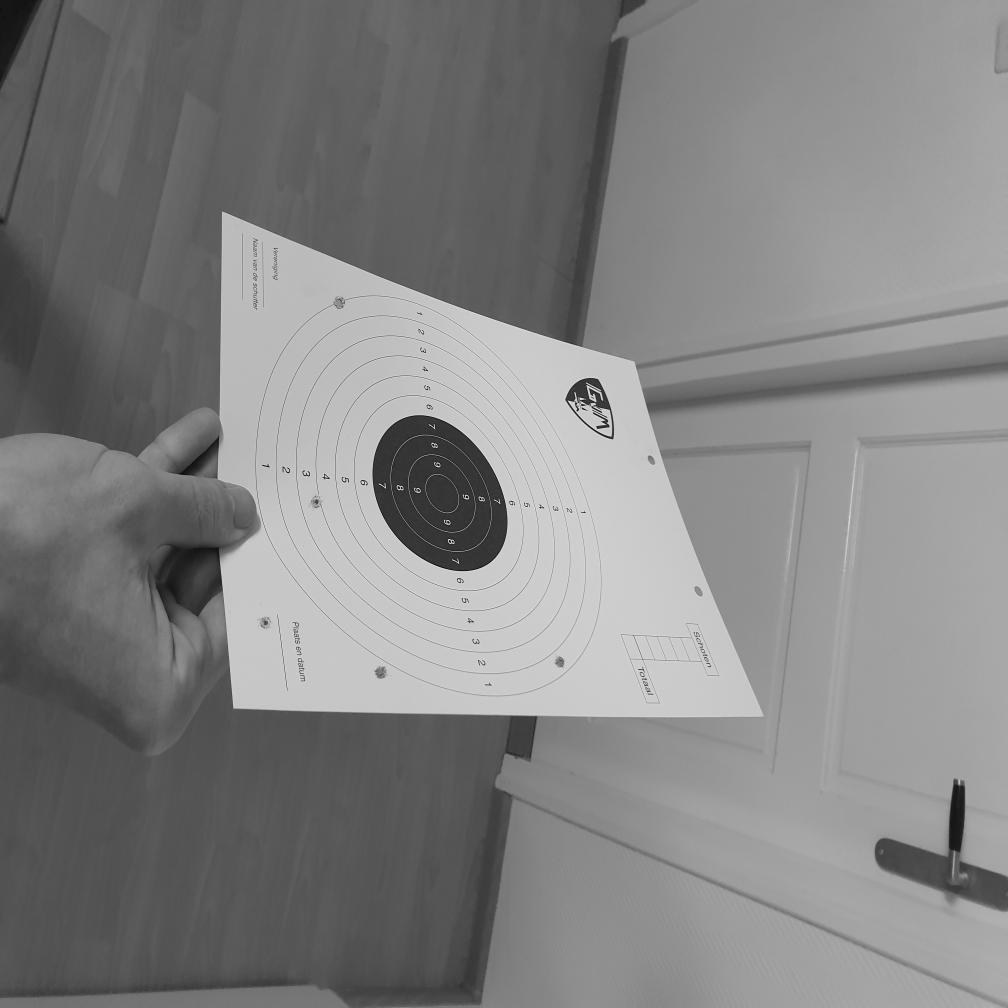0: (374, 666, 391, 680), (258, 616, 273, 630)
1: (333, 295, 346, 309), (554, 654, 566, 669)
4: (309, 494, 323, 510)
Target: (256, 299, 603, 698)
black_contour: (372, 415, 508, 571)
